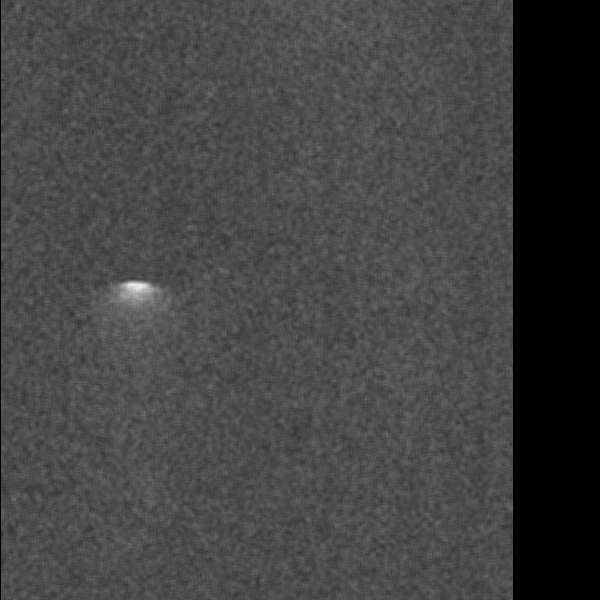spark: (240, 227, 296, 353)
